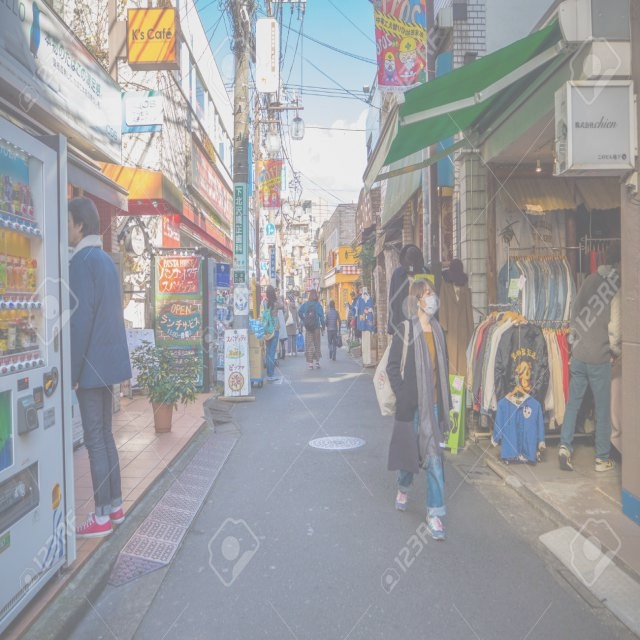pessoa: (65, 194, 134, 539), (370, 274, 456, 545), (556, 241, 623, 473), (121, 214, 159, 296), (260, 284, 286, 382), (296, 288, 326, 371), (282, 292, 302, 358), (267, 293, 285, 362), (324, 300, 344, 362), (346, 290, 358, 341), (345, 302, 357, 336), (280, 294, 300, 314), (300, 296, 309, 336), (318, 298, 327, 336), (296, 296, 304, 335), (344, 300, 352, 330)
